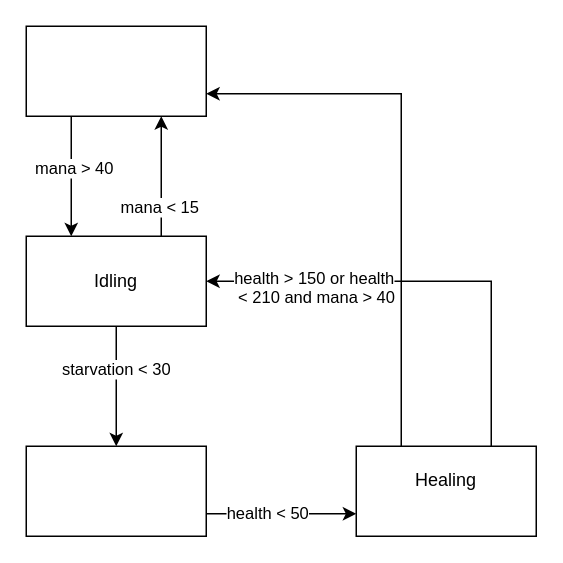
This 563x563 diagram has some shape labels left out. The shapes that lost their labels are listed below. From the top down, each one's centre as x and y in pixels, then its label:
At point 115,70: "Resting".
At point 115,490: "Hungry".
